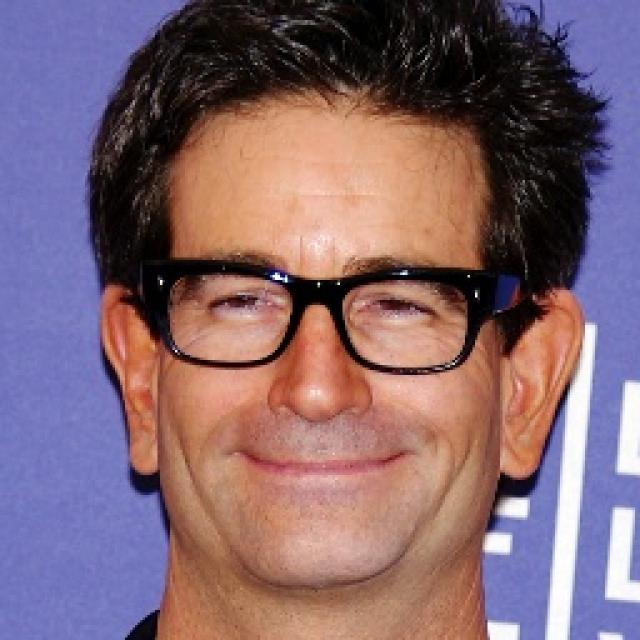earlobe: (498, 287, 584, 478), (99, 283, 162, 476)
